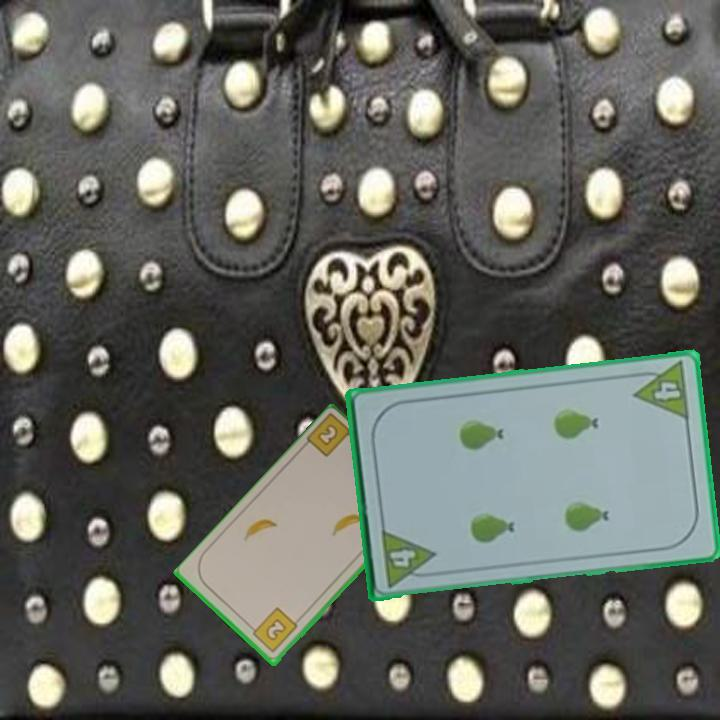2b: (246, 604, 301, 656), (303, 412, 361, 460)
4p: (628, 358, 693, 423), (377, 525, 439, 590)
